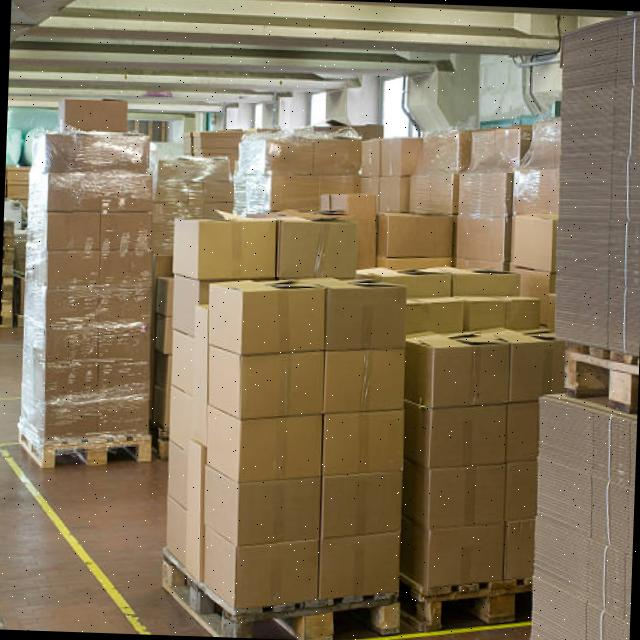Wooden-Pallets: (157, 545, 404, 637), (417, 561, 535, 634), (33, 424, 155, 477)
